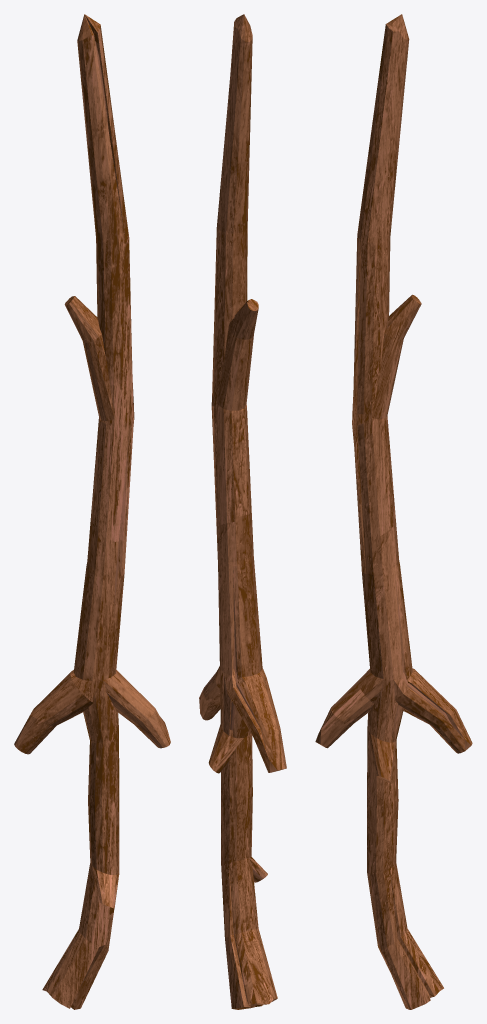
File: Меч_Второй_10_ФБХ.fbx
3 views of the same model, side by side, from view 1: azimuth 90°, elevation 25°; view 2: azimuth 210°, elevation 25°; view 3: azimuth 270°, elevation 25° (orthographic).
Visible parts, largest first — view 1: Цилиндр; view 2: Цилиндр, Цилиндр.002; view 3: Цилиндр.
Part boxes in pixels (<box>): Цилиндр: <box>14,14,170,1009</box>; Цилиндр: <box>199,14,286,1009</box>; Цилиндр.002: <box>233,630,260,729</box>; Цилиндр: <box>315,14,472,1009</box>.
Size of the model in its own units: 327 by 5085 by 729.
2 materials, 1 textured.
